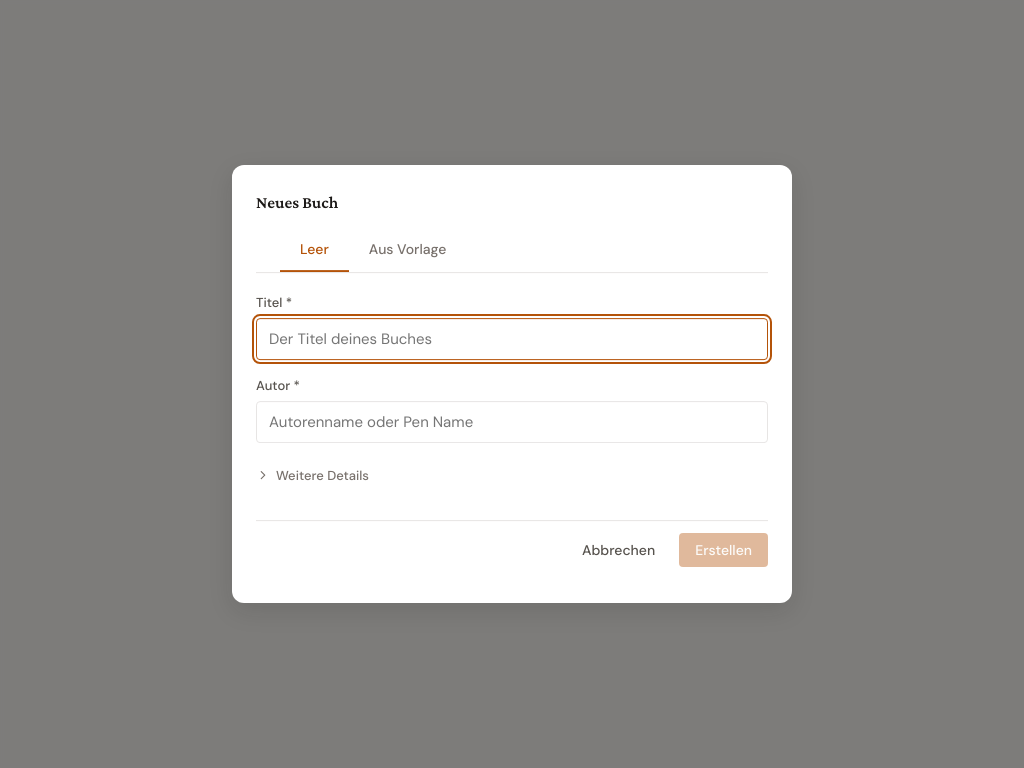
CreateBookModal › create button is disabled in template mode until a template is selected
Type "My Book" into the field with placeholder "Der Titel deines Buches" at (512, 339), box x1=256 y1=318 x2=768 y2=360
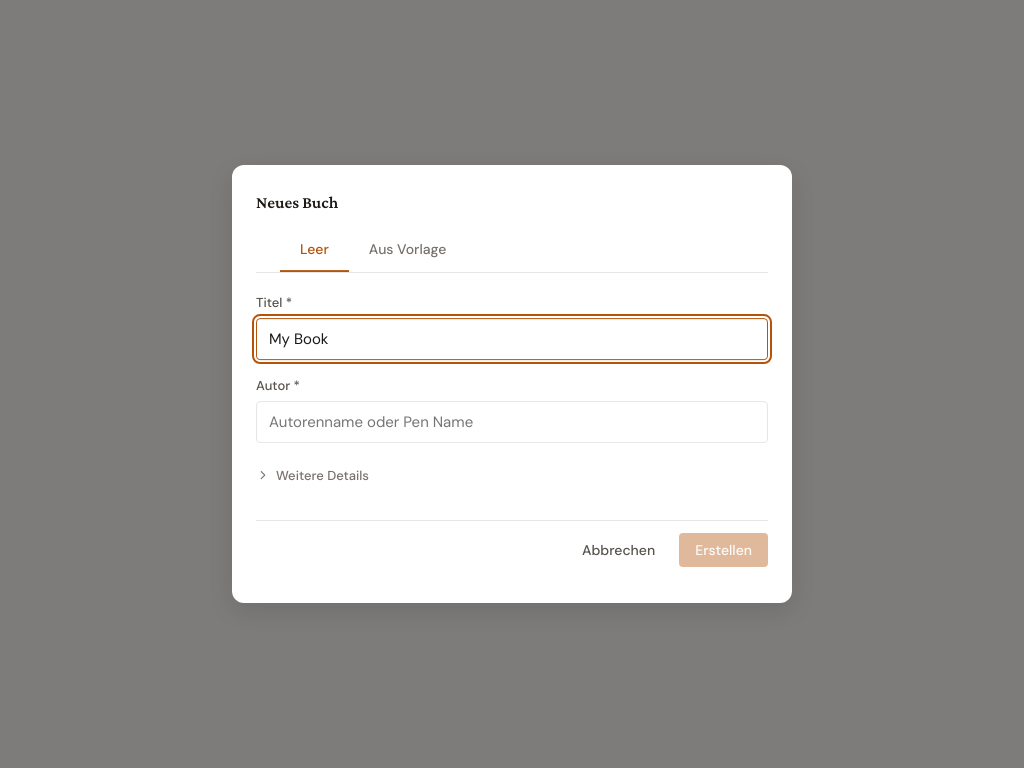
Type "Author" into the field with placeholder "Autorenname oder Pen Name" at (512, 422), box x1=256 y1=401 x2=768 y2=443
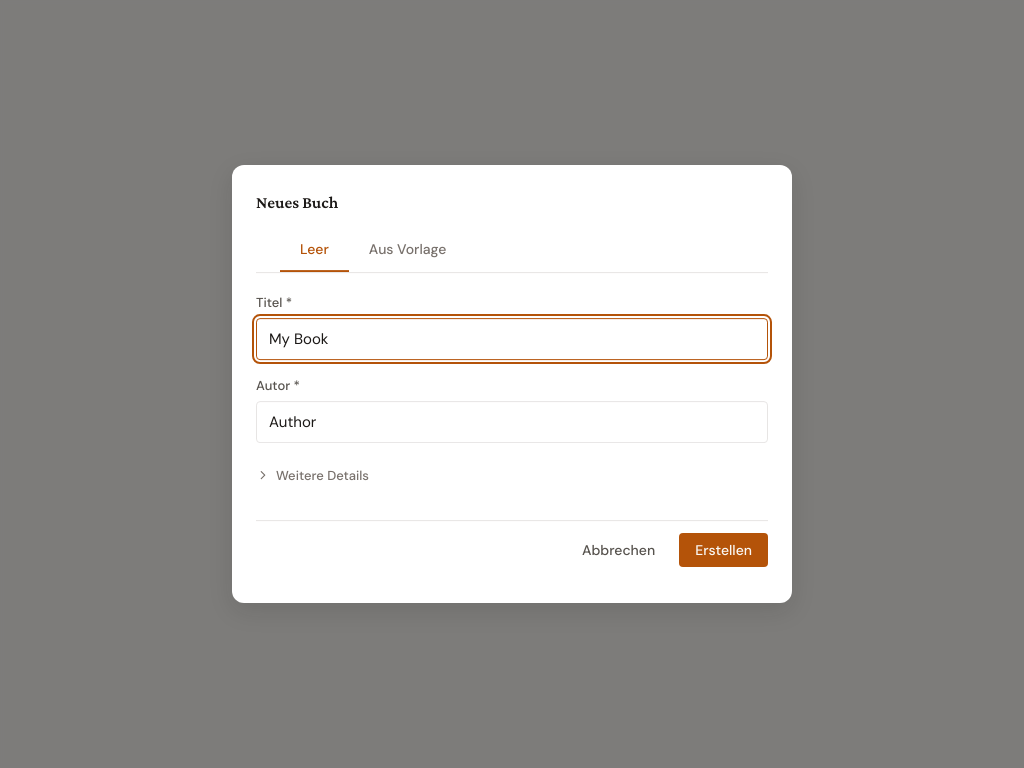
Press the mouse on the tab with test id "create-book-mode-template" at (408, 250), box x1=349 y1=228 x2=466 y2=272
Press the mouse on the tab with test id "create-book-mode-template" at (408, 250), box x1=349 y1=228 x2=466 y2=272
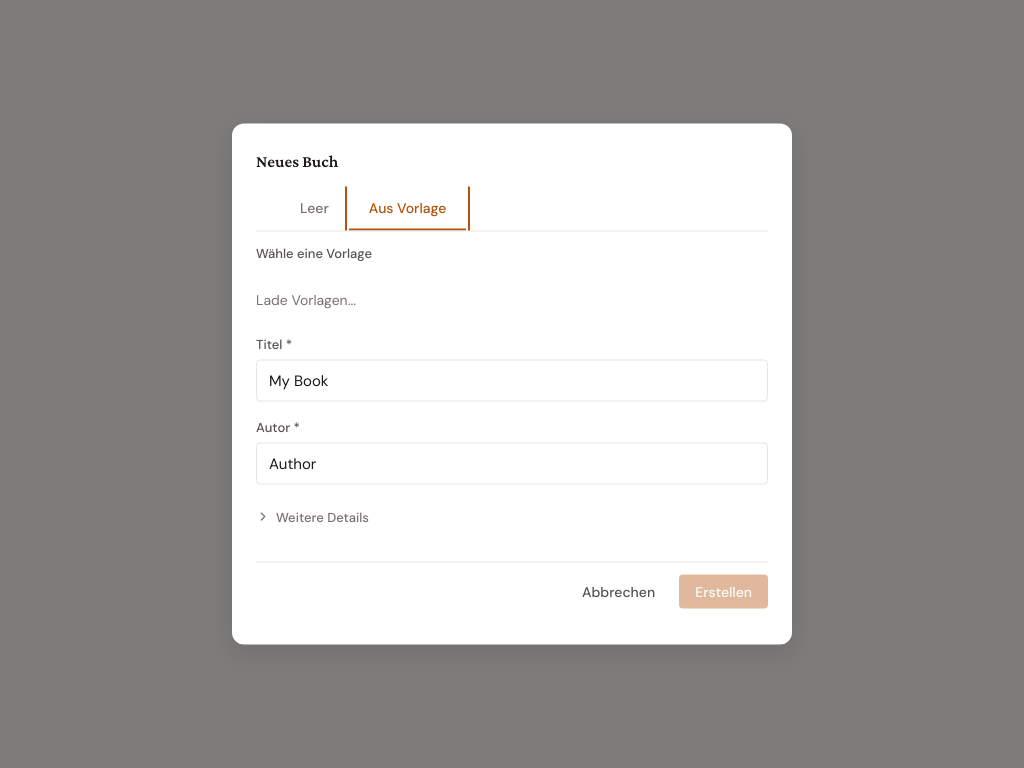
Click the tab with test id "create-book-mode-template" at (408, 209), box x1=349 y1=187 x2=466 y2=231
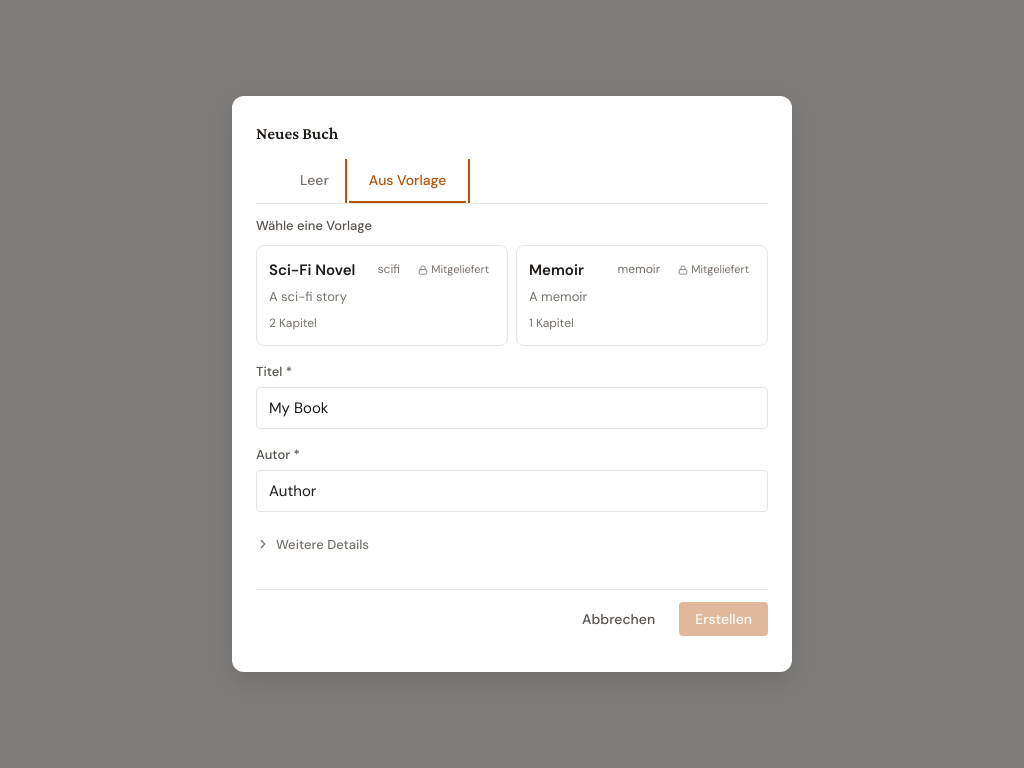
Now the button "Erstellen" is disabled, box x1=679 y1=602 x2=768 y2=636
Now the text "Sci-Fi Novel" is shown, box x1=269 y1=258 x2=355 y2=282
Click the radio button with test id "template-card-tpl-scifi" at (382, 296), box x1=256 y1=245 x2=508 y2=346
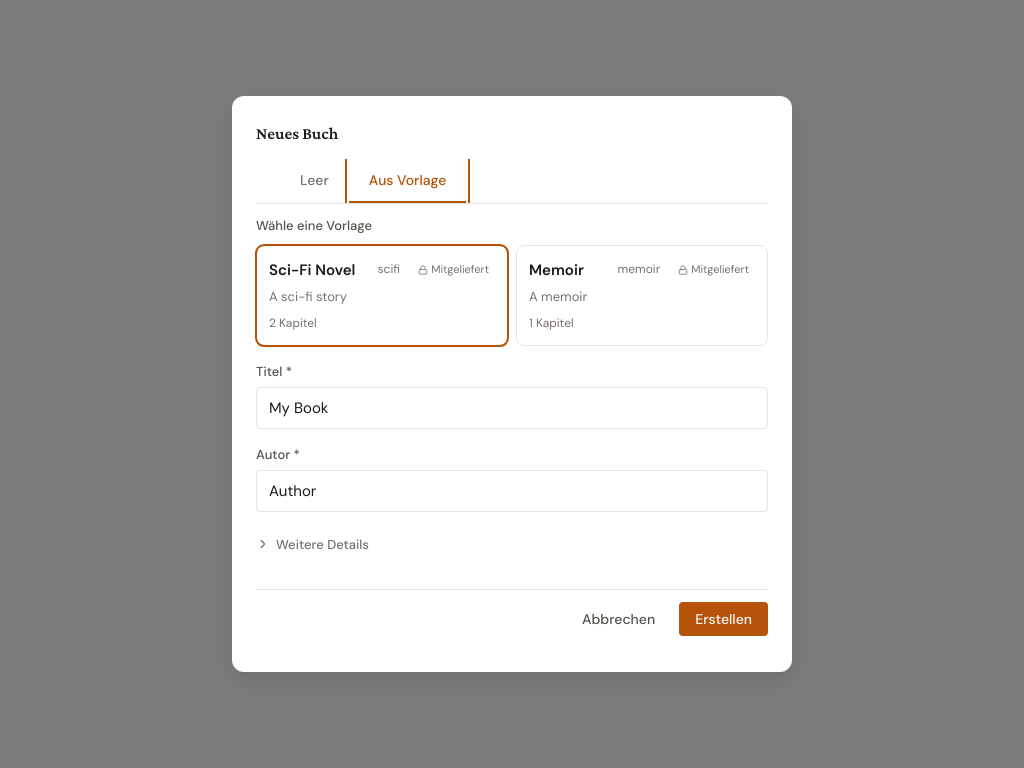
Now the button "Erstellen" is enabled, box x1=679 y1=602 x2=768 y2=636
